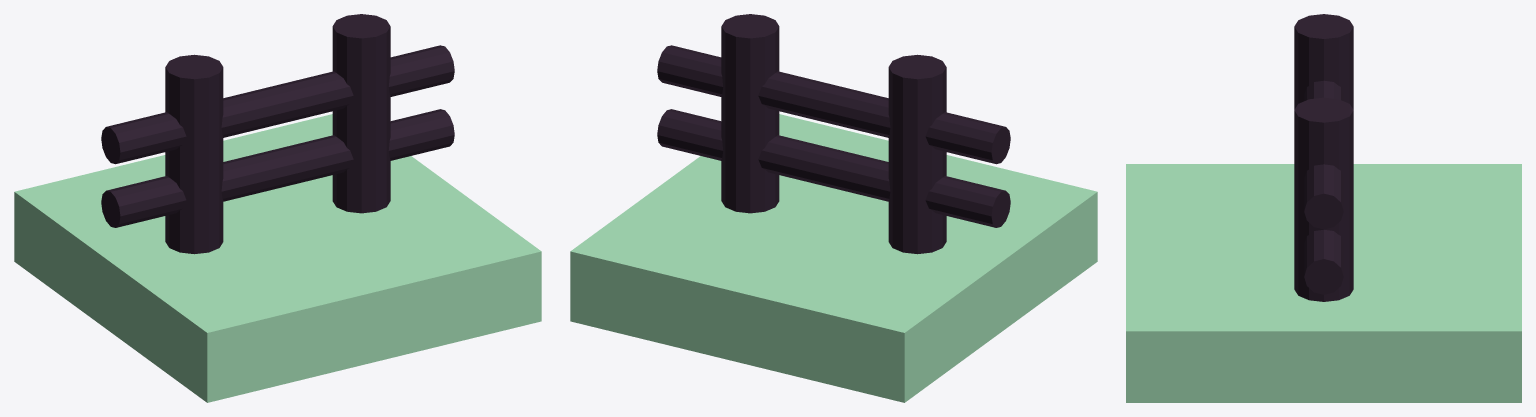
The model's file is Fence.fbx.
The picture shows the model from 3 angles, left to right: view 1: azimuth 30°, elevation 25°; view 2: azimuth 150°, elevation 25°; view 3: azimuth 270°, elevation 25°; orthographic projection. The views are drawn at different scales.
Visible parts, largest first — view 1: Fence; view 2: Fence; view 3: Fence.
Part boxes in pixels (x1=…): Fence: x1=14, y1=14, x2=541, y2=402; Fence: x1=570, y1=14, x2=1097, y2=402; Fence: x1=1126, y1=14, x2=1521, y2=402.
Size of the model in its own units: 200 by 140 by 200.
